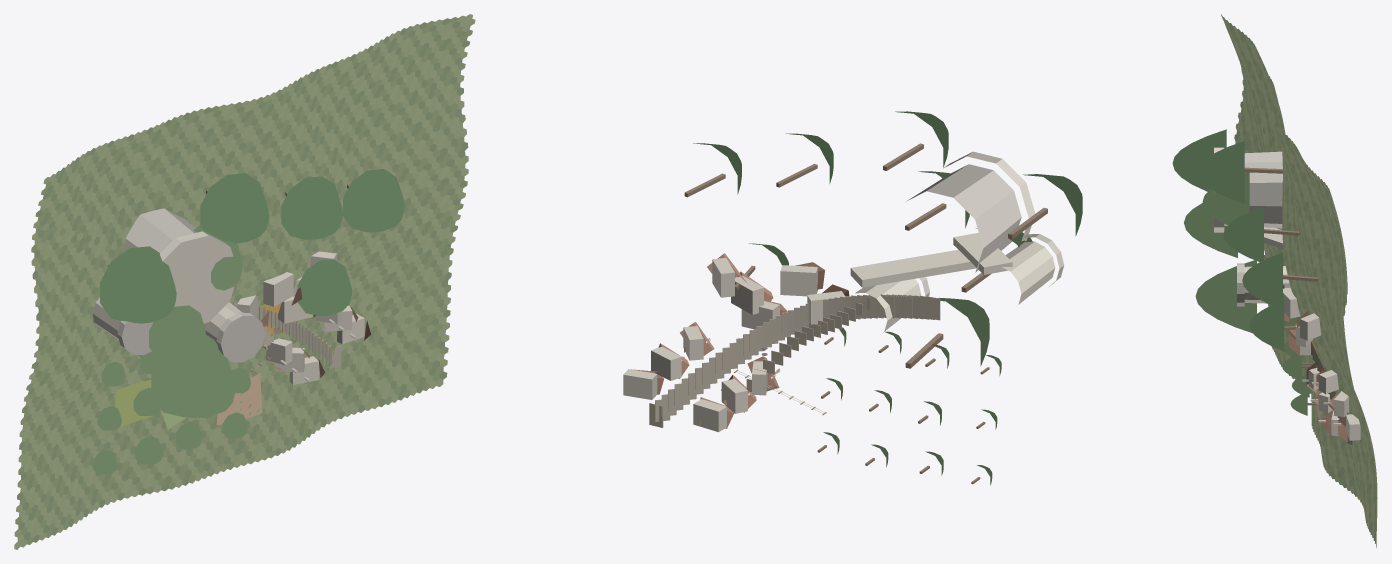
The model's file is land.glb.
3 renders of one model, left to right at view 1: azimuth 30°, elevation 25°; view 2: azimuth 150°, elevation 25°; view 3: azimuth 270°, elevation 25°, orthographic. The views are drawn at different scales.
Visible parts, largest first — view 1: ground (×4), crown (×10), keep_battlement, tower_batt (×2), keep, field (×2), house (×2), tower; view 2: house (×6), keep, curtain (×2), tower (×2), crown (×2), keep_battlement; view 3: ground (×4), crown (×10), keep, house (×5), tower_batt, tower, curtain.
Boxes of the visible parts, bbox=[...] form: ground (×4): bbox=[14, 14, 475, 549]; crown (×10): bbox=[100, 169, 404, 464]; keep_battlement: bbox=[159, 231, 234, 323]; tower_batt (×2): bbox=[117, 312, 265, 362]; keep: bbox=[124, 208, 196, 252]; field (×2): bbox=[114, 373, 262, 426]; house (×2): bbox=[263, 272, 293, 365]; tower: bbox=[204, 302, 241, 343]; house (×6): bbox=[623, 258, 817, 432]; keep: bbox=[906, 164, 1021, 272]; curtain (×2): bbox=[850, 232, 1012, 287]; tower (×2): bbox=[855, 241, 1055, 331]; crown (×2): bbox=[938, 174, 1082, 366]; keep_battlement: bbox=[943, 151, 1035, 240]; ground (×4): bbox=[1221, 14, 1377, 548]; crown (×10): bbox=[1172, 129, 1307, 415]; keep: bbox=[1224, 151, 1282, 228]; house (×5): bbox=[1283, 287, 1360, 440]; tower_batt: bbox=[1237, 263, 1244, 306]; tower: bbox=[1244, 266, 1290, 303]; curtain: bbox=[1264, 227, 1283, 249].
Bounding box in the file's own units: 120 × 92 × 50.93.
